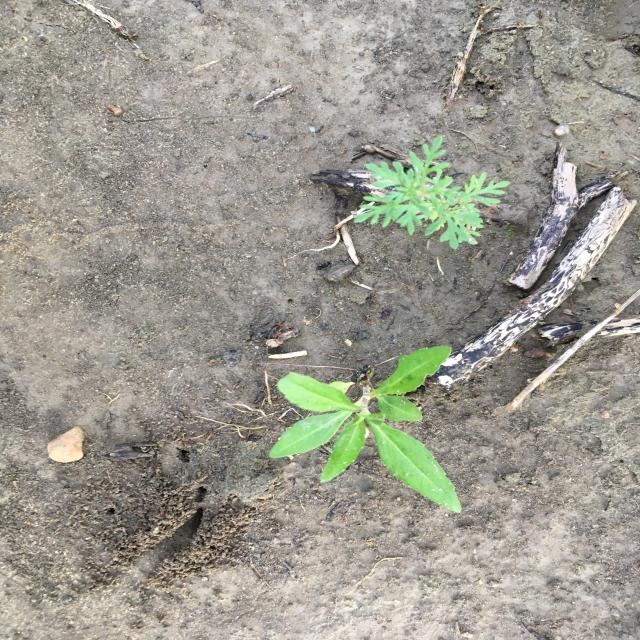Eclipta: (266, 344, 465, 515)
Ragweed: (352, 135, 514, 250)
